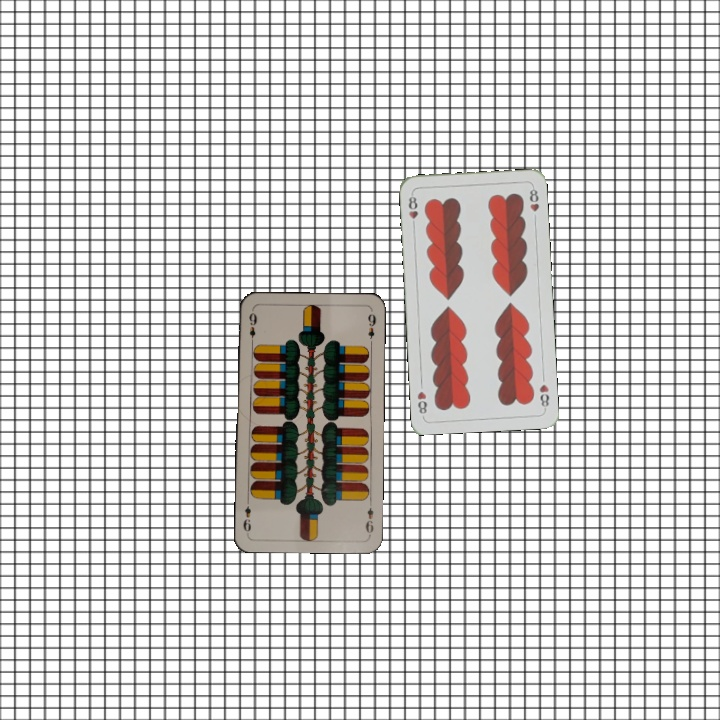E9: (245, 307, 259, 347), (362, 497, 376, 537)
H8: (404, 190, 420, 230), (535, 380, 551, 412)
